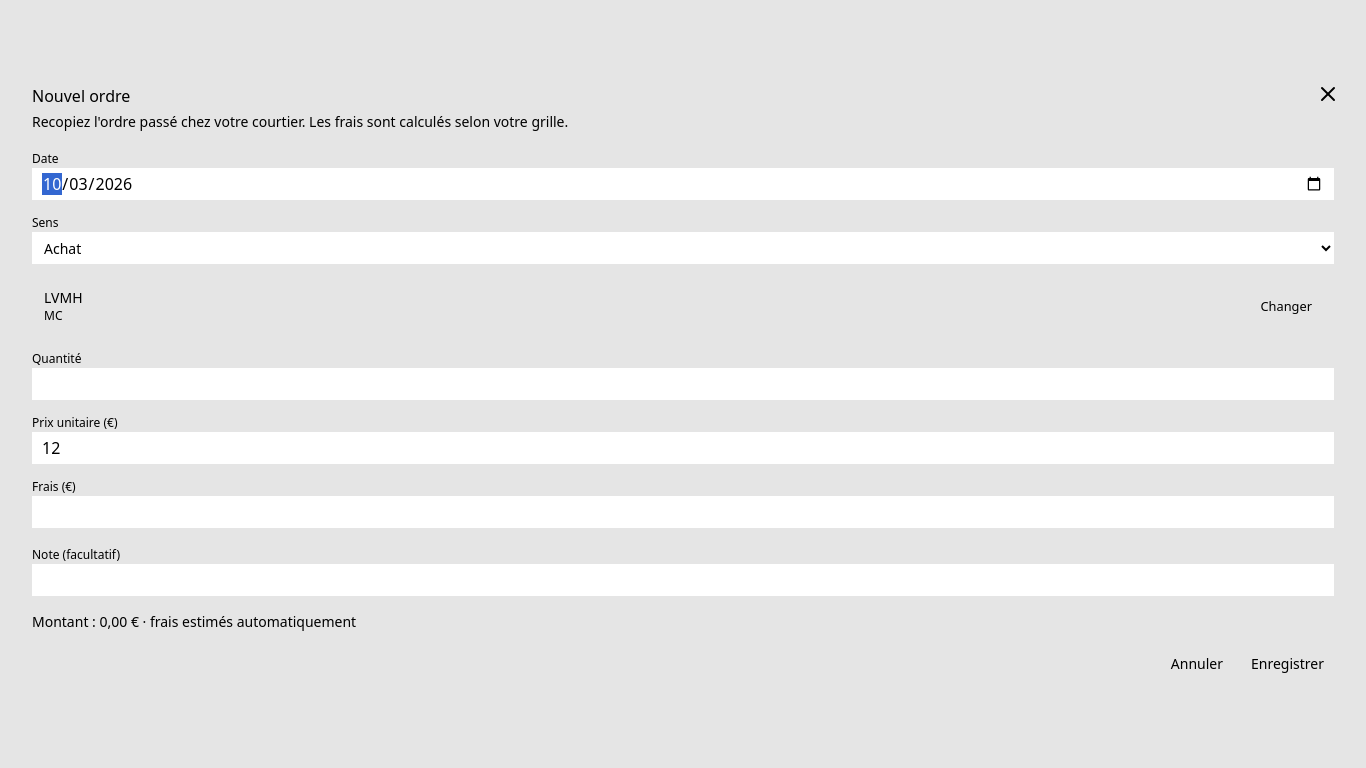
Scenario: affiche le refus du serveur (vente trop grande)
Select "Vente" in the dropdown labelled "Sens" at (683, 248), box [32,232,1334,264]
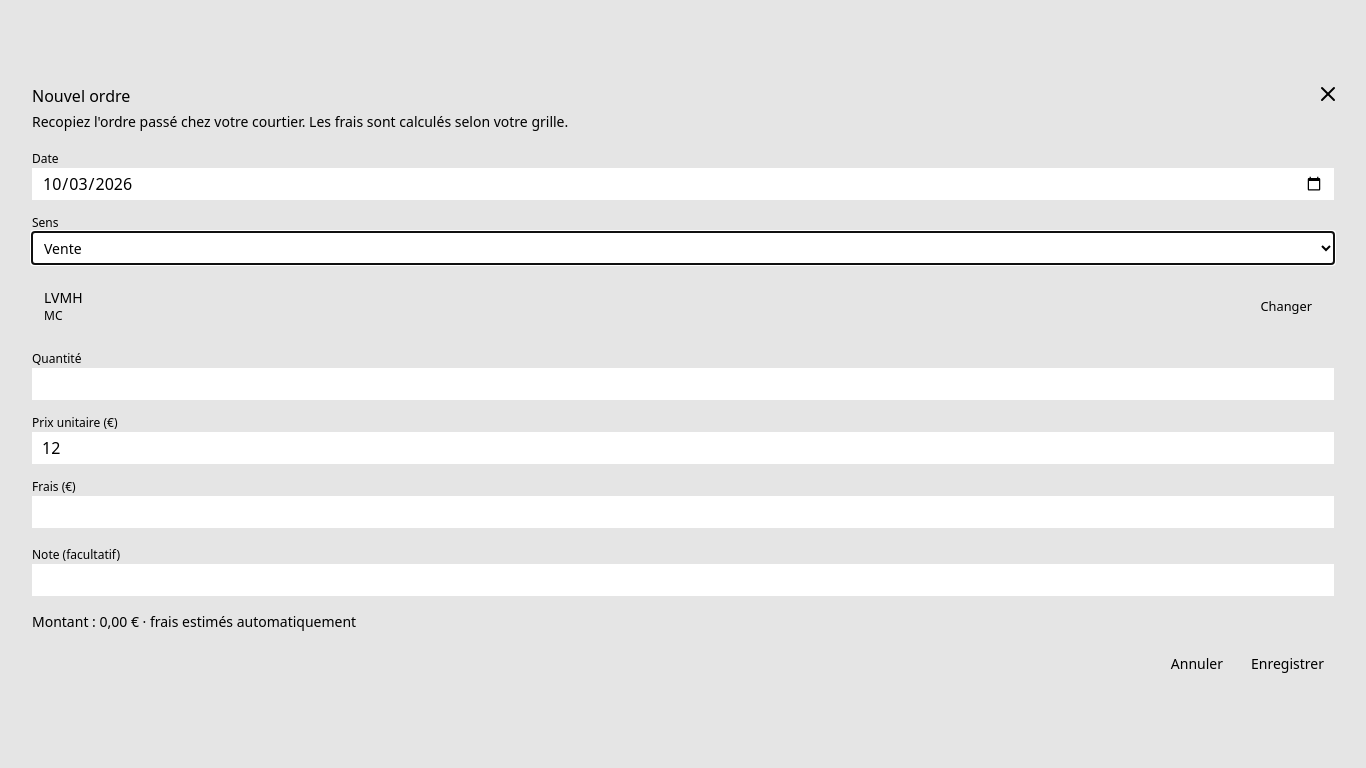
Type "5" into the field labelled "Quantité" at (683, 384), box [32,368,1334,400]
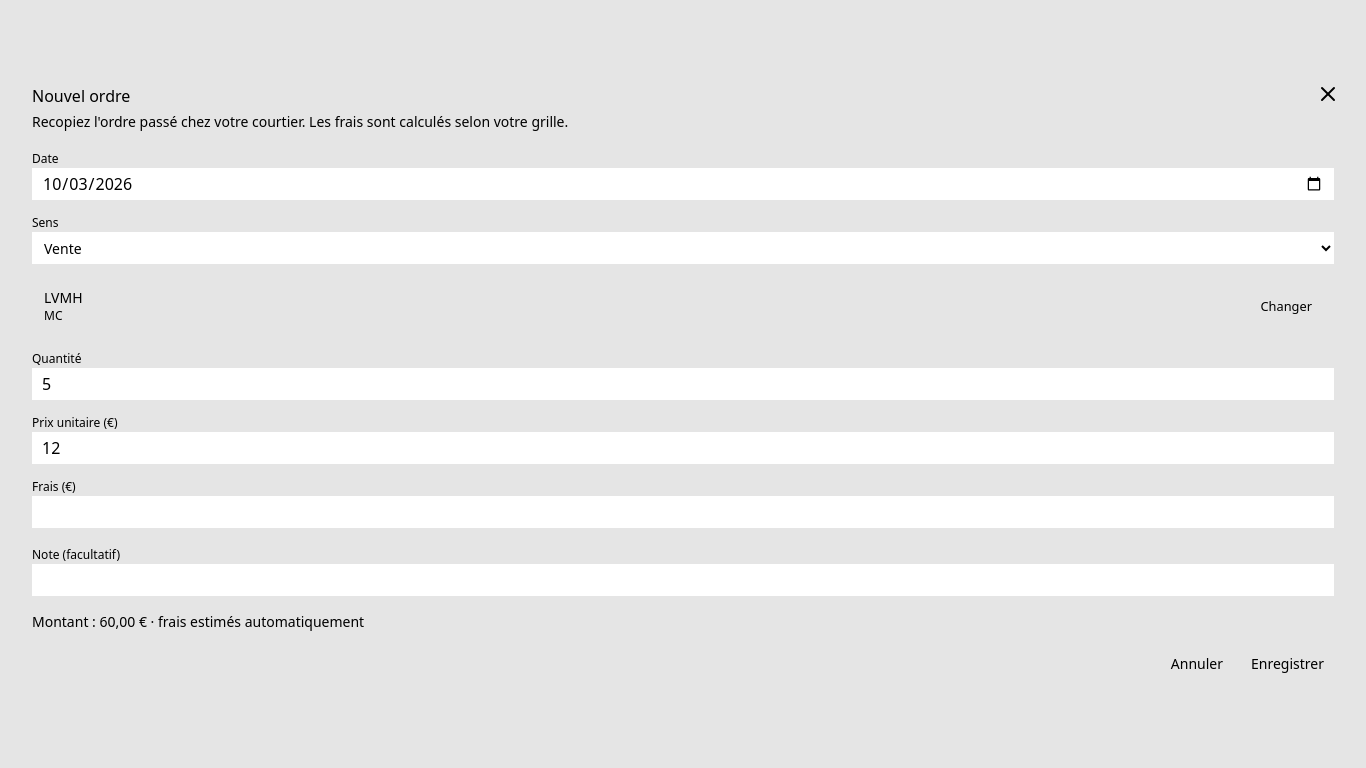
Click the button "Enregistrer" at (1288, 664), box [1241,648,1334,680]
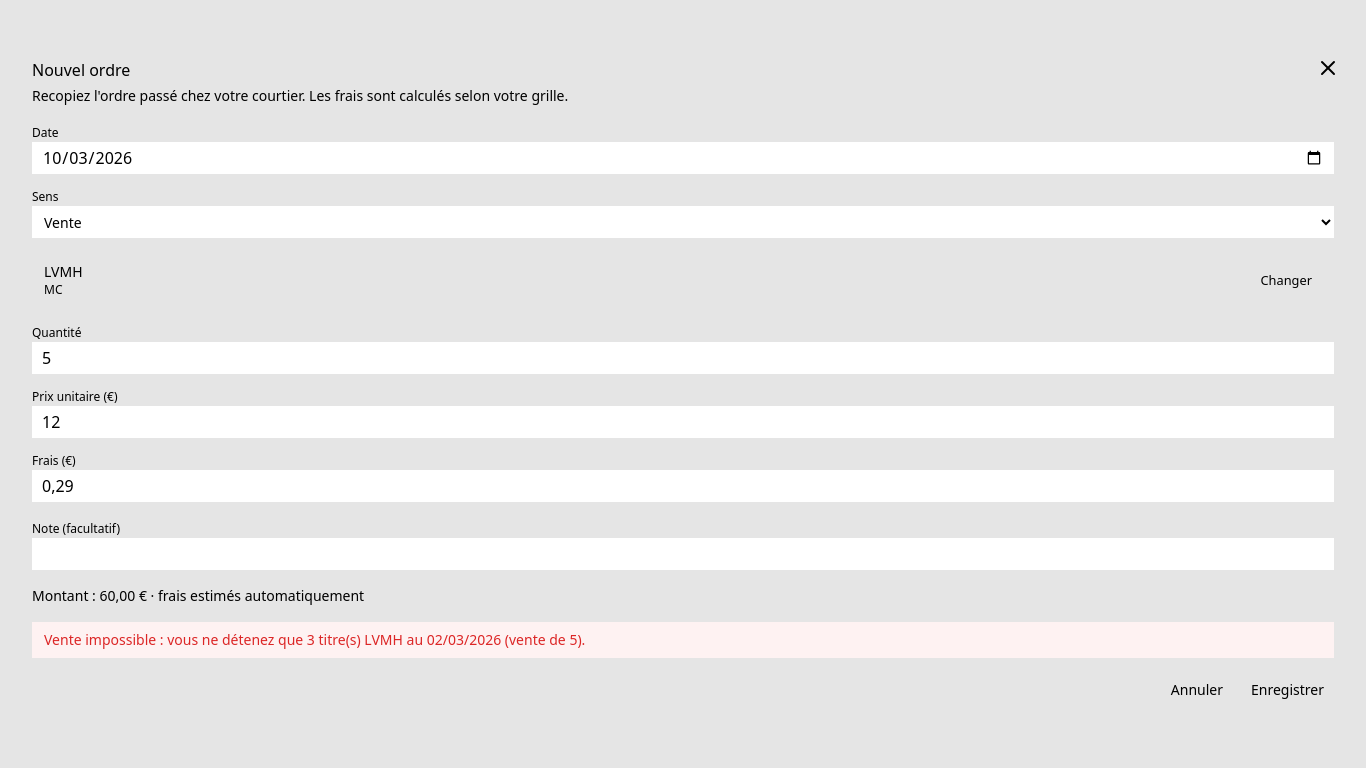
Check: the message shows "vous ne détenez que 3", box [44,630,585,649]
